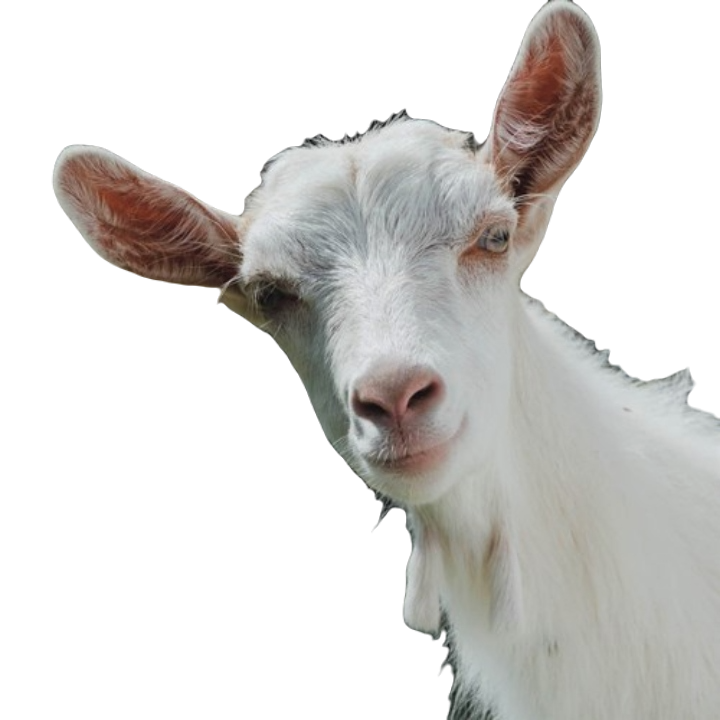Goat: (49, 0, 719, 719)
